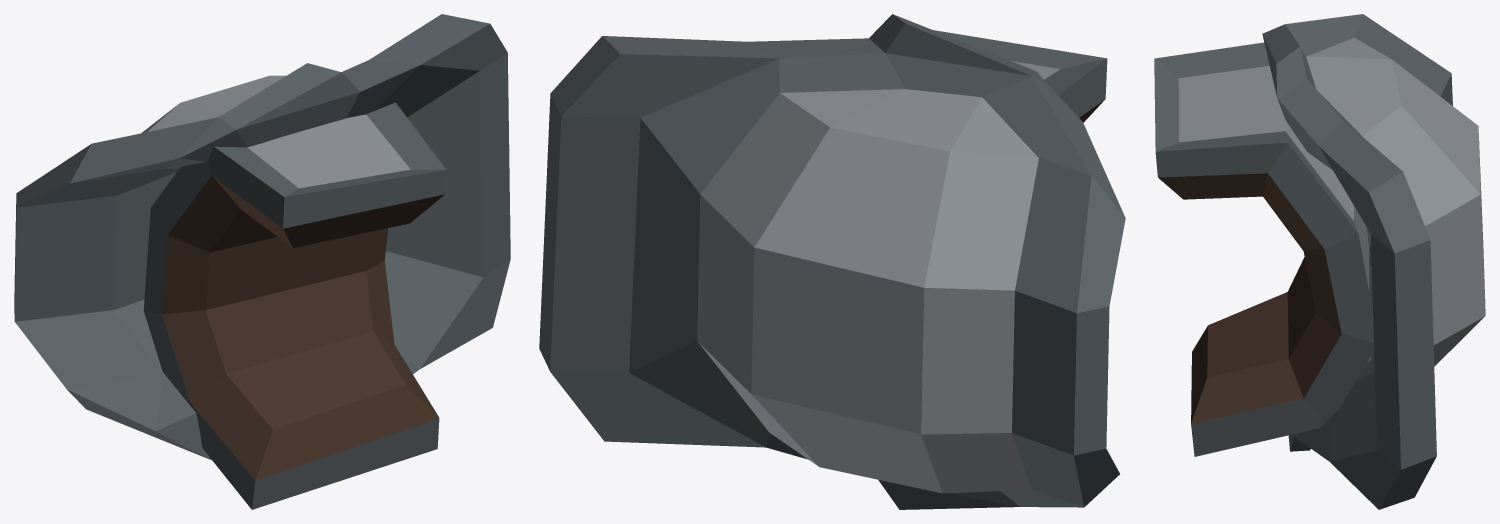
File: Chr_ElbowAttachRight_05_Static.fbx
The picture shows the model from 3 angles, left to right: view 1: azimuth 30°, elevation 25°; view 2: azimuth 150°, elevation 25°; view 3: azimuth 270°, elevation 25°; orthographic projection. The views are drawn at different scales.
Visible parts, largest first — view 1: Chr_ElbowAttachRight_05_Static; view 2: Chr_ElbowAttachRight_05_Static; view 3: Chr_ElbowAttachRight_05_Static.
Part boxes in pixels (x1,y1,x2,y2): Chr_ElbowAttachRight_05_Static: (14, 14, 510, 509); Chr_ElbowAttachRight_05_Static: (539, 14, 1125, 509); Chr_ElbowAttachRight_05_Static: (1154, 14, 1485, 509).
Size of the model in its own units: 0.2398 by 0.1892 by 0.1406.
